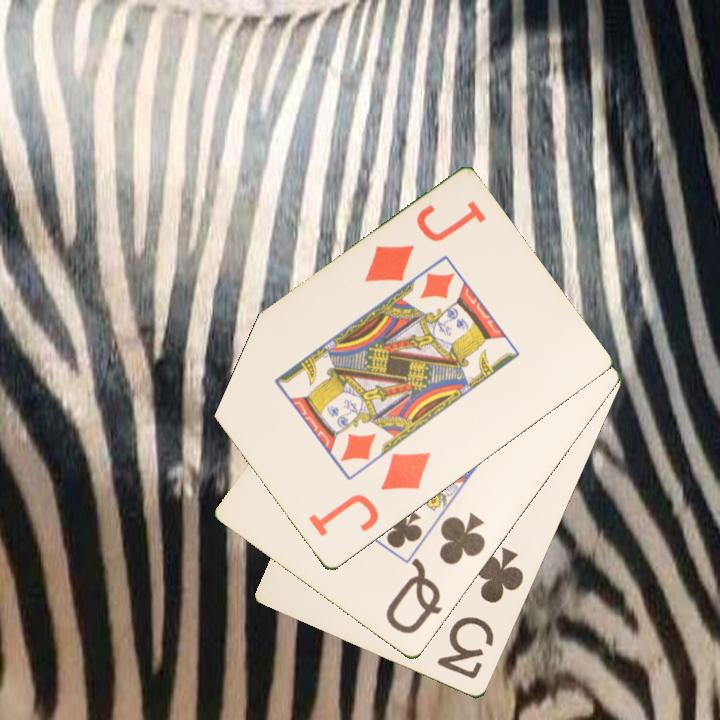3c: (433, 544, 527, 683)
Jd: (304, 449, 434, 540), (360, 197, 490, 287)
Qc: (382, 509, 489, 638)
